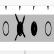correct: (30, 18, 38, 38)
not correct: (14, 11, 26, 42)
